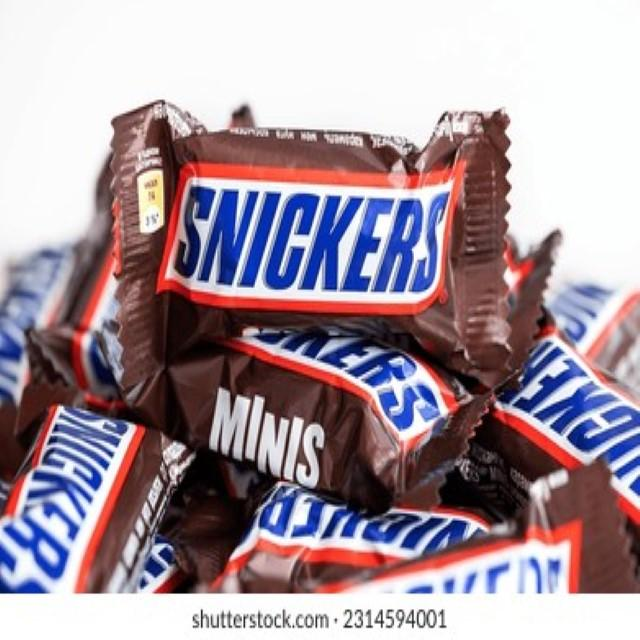snickers_chocolate: (120, 115, 528, 313), (93, 313, 475, 467), (32, 352, 170, 620), (205, 513, 513, 622), (526, 325, 640, 531)
